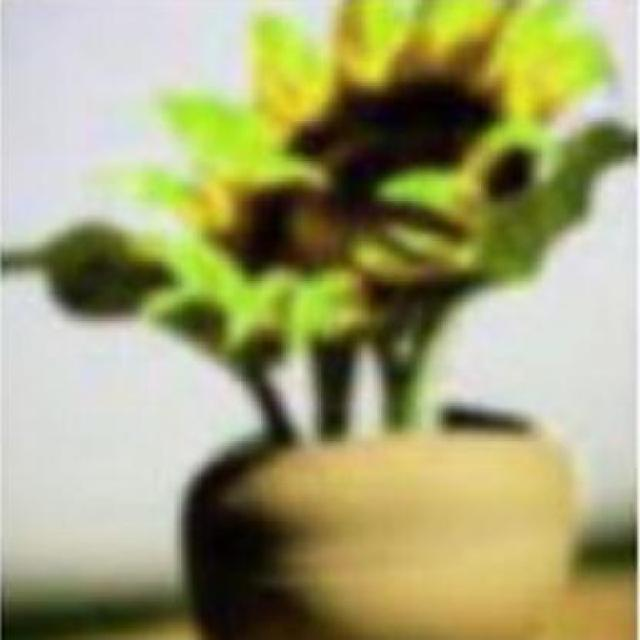sunflower: (157, 0, 606, 343)
